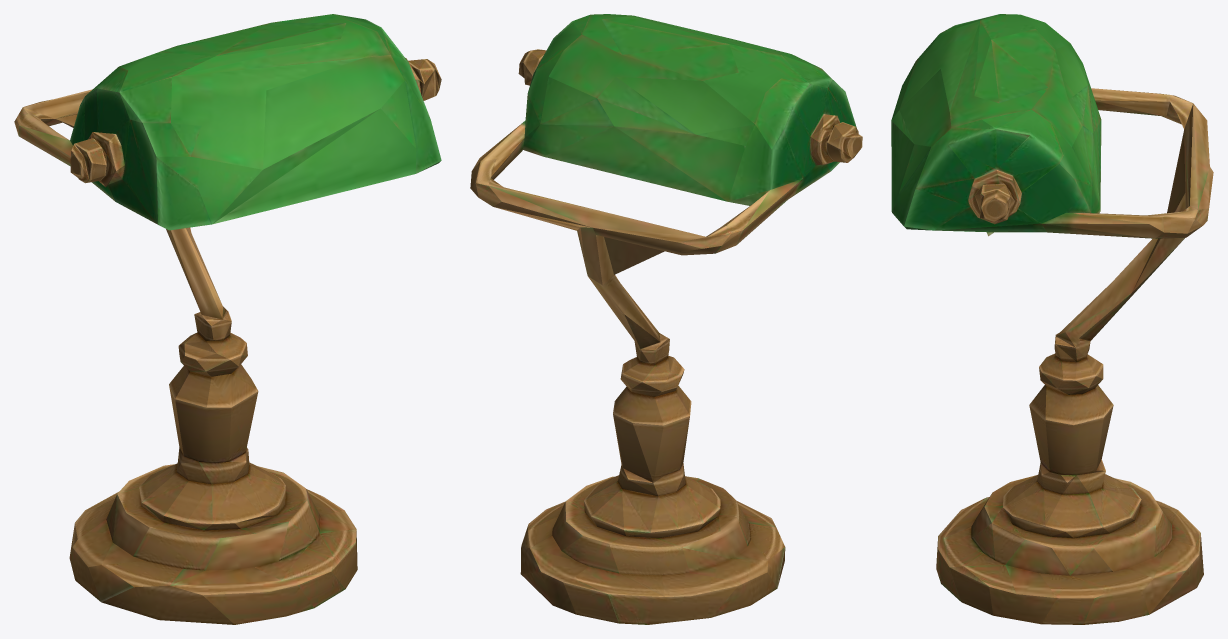
The model's file is abajur_banqueiro.glb.
The picture shows the model from 3 angles, left to right: view 1: azimuth 30°, elevation 25°; view 2: azimuth 150°, elevation 25°; view 3: azimuth 270°, elevation 25°; orthographic projection. The views are drawn at different scales.
Visible parts, largest first — view 1: Mesh_0; view 2: Mesh_0; view 3: Mesh_0.
Boxes of the visible parts, x1,y1,x2,y2 form: Mesh_0: [14, 14, 441, 624]; Mesh_0: [470, 14, 862, 624]; Mesh_0: [891, 14, 1213, 624].
Bounding box in the file's own units: 0.3088 × 0.45 × 0.2567.
Materials: 1 (1 with a texture image).
